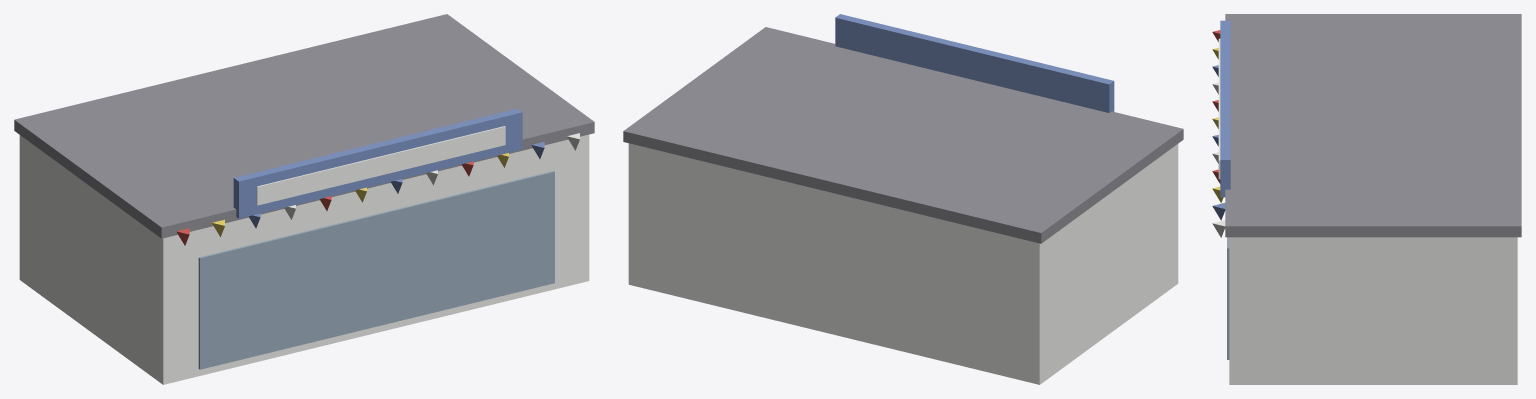
File: dealership.glb
The picture shows the model from 3 angles, left to right: view 1: azimuth 30°, elevation 25°; view 2: azimuth 150°, elevation 25°; view 3: azimuth 270°, elevation 25°; orthographic projection. The views are drawn at different scales.
Visible parts, largest first — view 1: dealership; view 2: dealership; view 3: dealership.
Part boxes in pixels (x1,y1,x2,y2): dealership: (14,14,594,384); dealership: (623,14,1183,384); dealership: (1212,14,1521,384).
Size of the model in its own units: 12.2 by 5.1 by 7.52.
